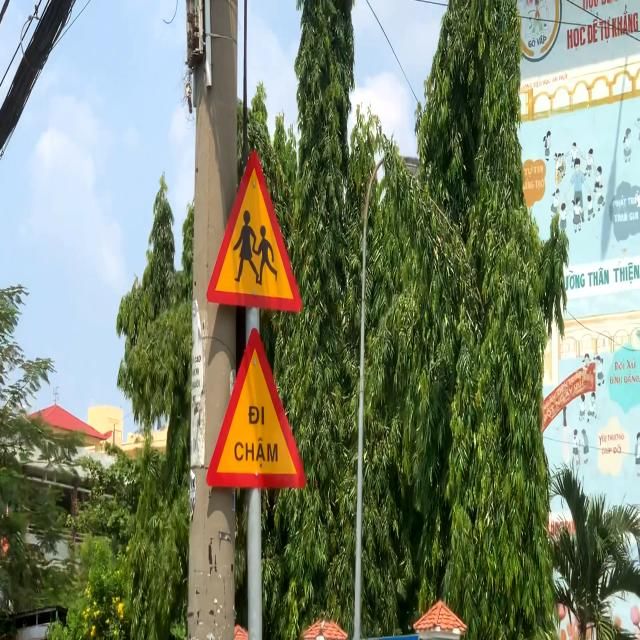W.225: (205, 148, 303, 313)
W.245a: (205, 326, 308, 488)
